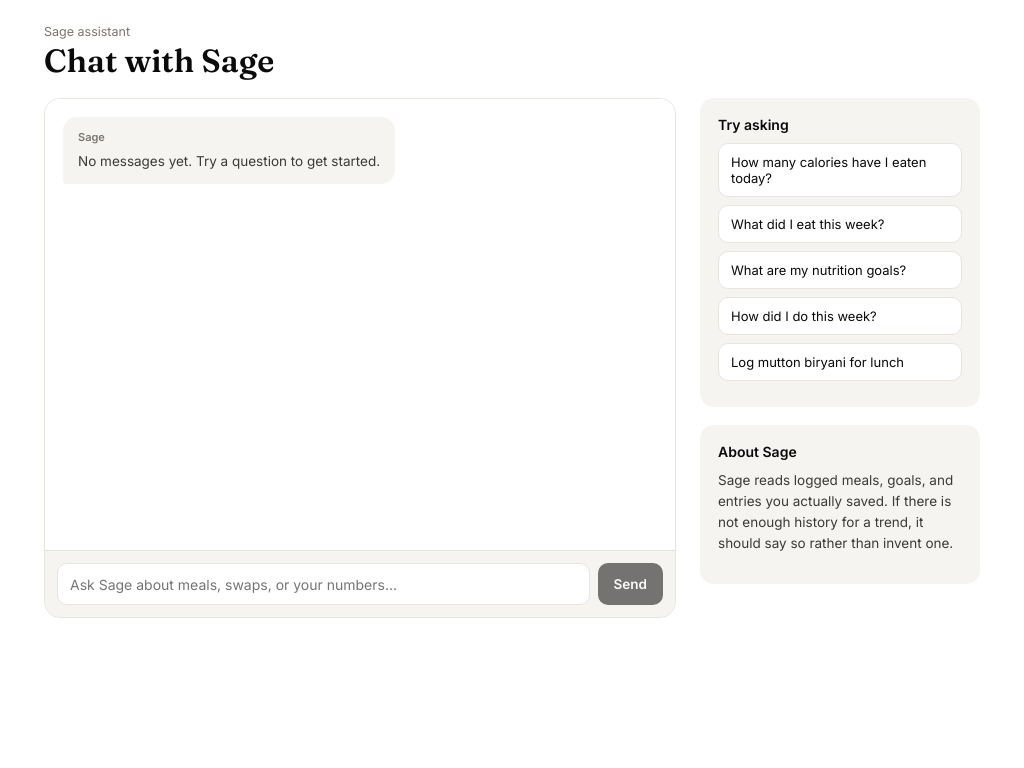
Test case: ChatPage › shows a loading state and disables send while the request is pending
This screenshot has width=1024, height=768.
Type "What are my nutrition goals?" into the field named "Message".
click(323, 584); type("What are my nutrition goals?")  # box [57,563,590,605]
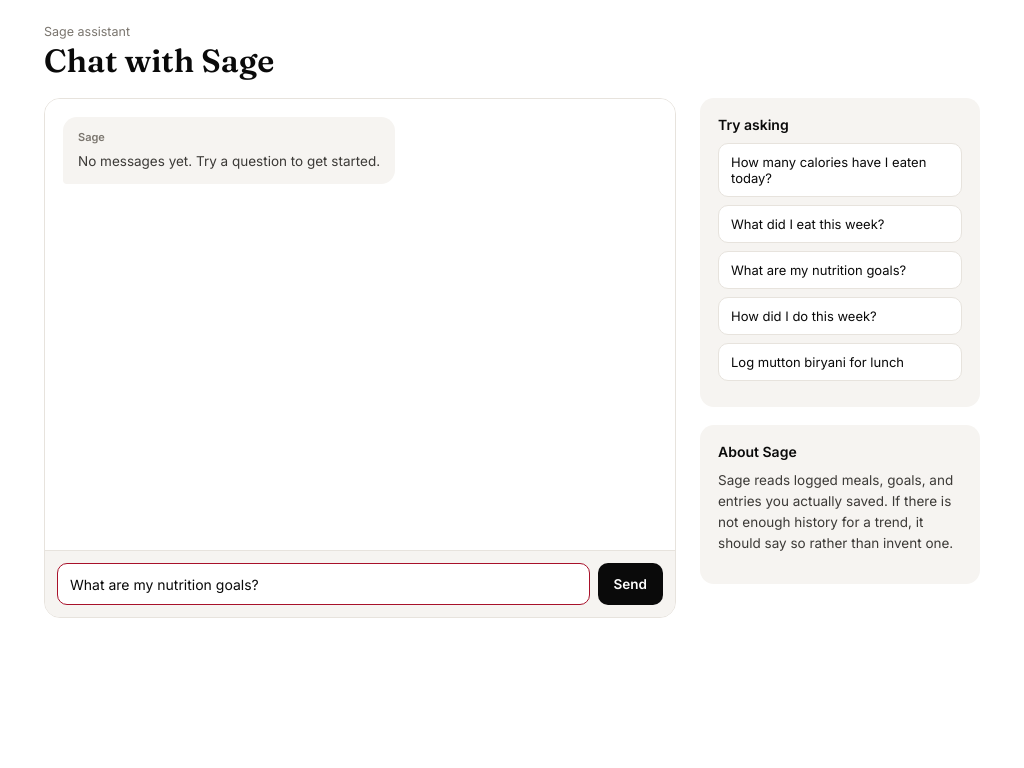
Click the button "Send".
click(630, 584)  # box [598,563,663,605]
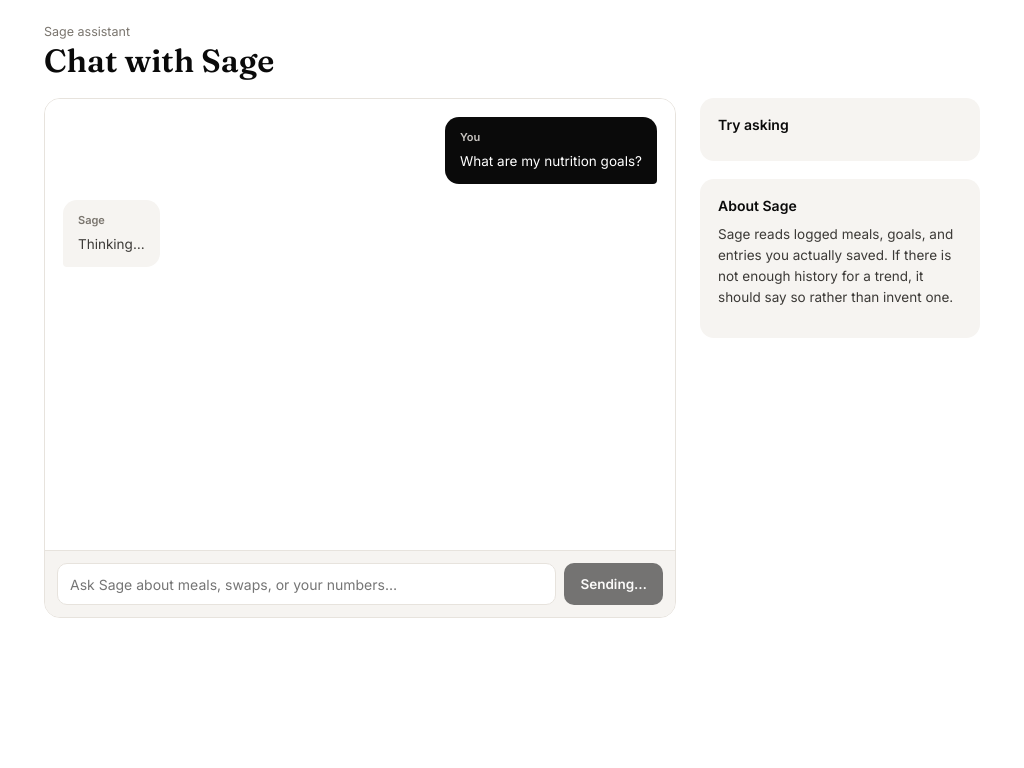
Check: the message shows "Thinking", box [78,236,144,252]
Check: the button "Sending…" is disabled, box [564,563,663,605]
Check: the field named "Message" is disabled, box [57,563,556,605]
